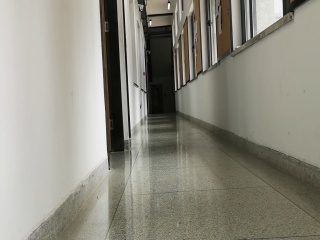room: (95, 3, 123, 158)
